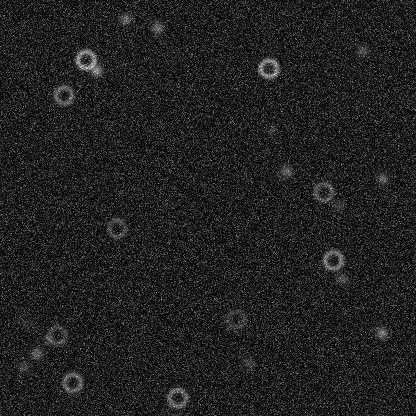Ring: (60, 370, 84, 394), (73, 47, 97, 71), (165, 385, 189, 409), (321, 247, 345, 271), (311, 179, 335, 203), (224, 307, 248, 331), (256, 56, 280, 80), (104, 216, 128, 240), (45, 323, 69, 347), (51, 83, 75, 107)
Spot: (15, 358, 31, 374), (28, 345, 44, 361), (16, 314, 32, 330), (373, 324, 389, 340), (262, 122, 278, 138), (149, 19, 165, 35), (116, 10, 132, 26), (278, 163, 294, 179), (354, 42, 370, 58), (39, 332, 55, 348), (240, 355, 256, 371), (374, 170, 390, 186), (334, 270, 350, 286), (329, 197, 345, 213), (88, 62, 104, 78)
